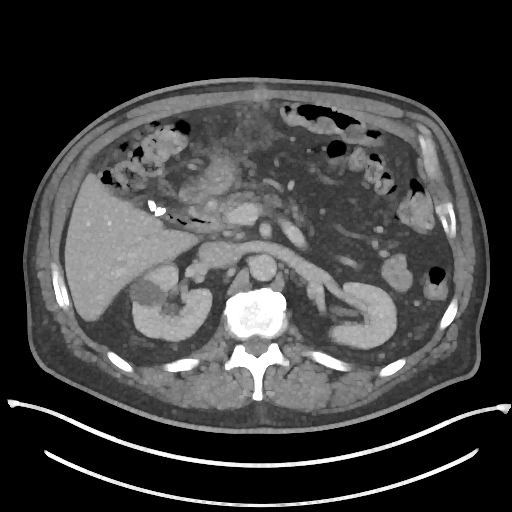Lesion: (127, 274, 169, 312)
